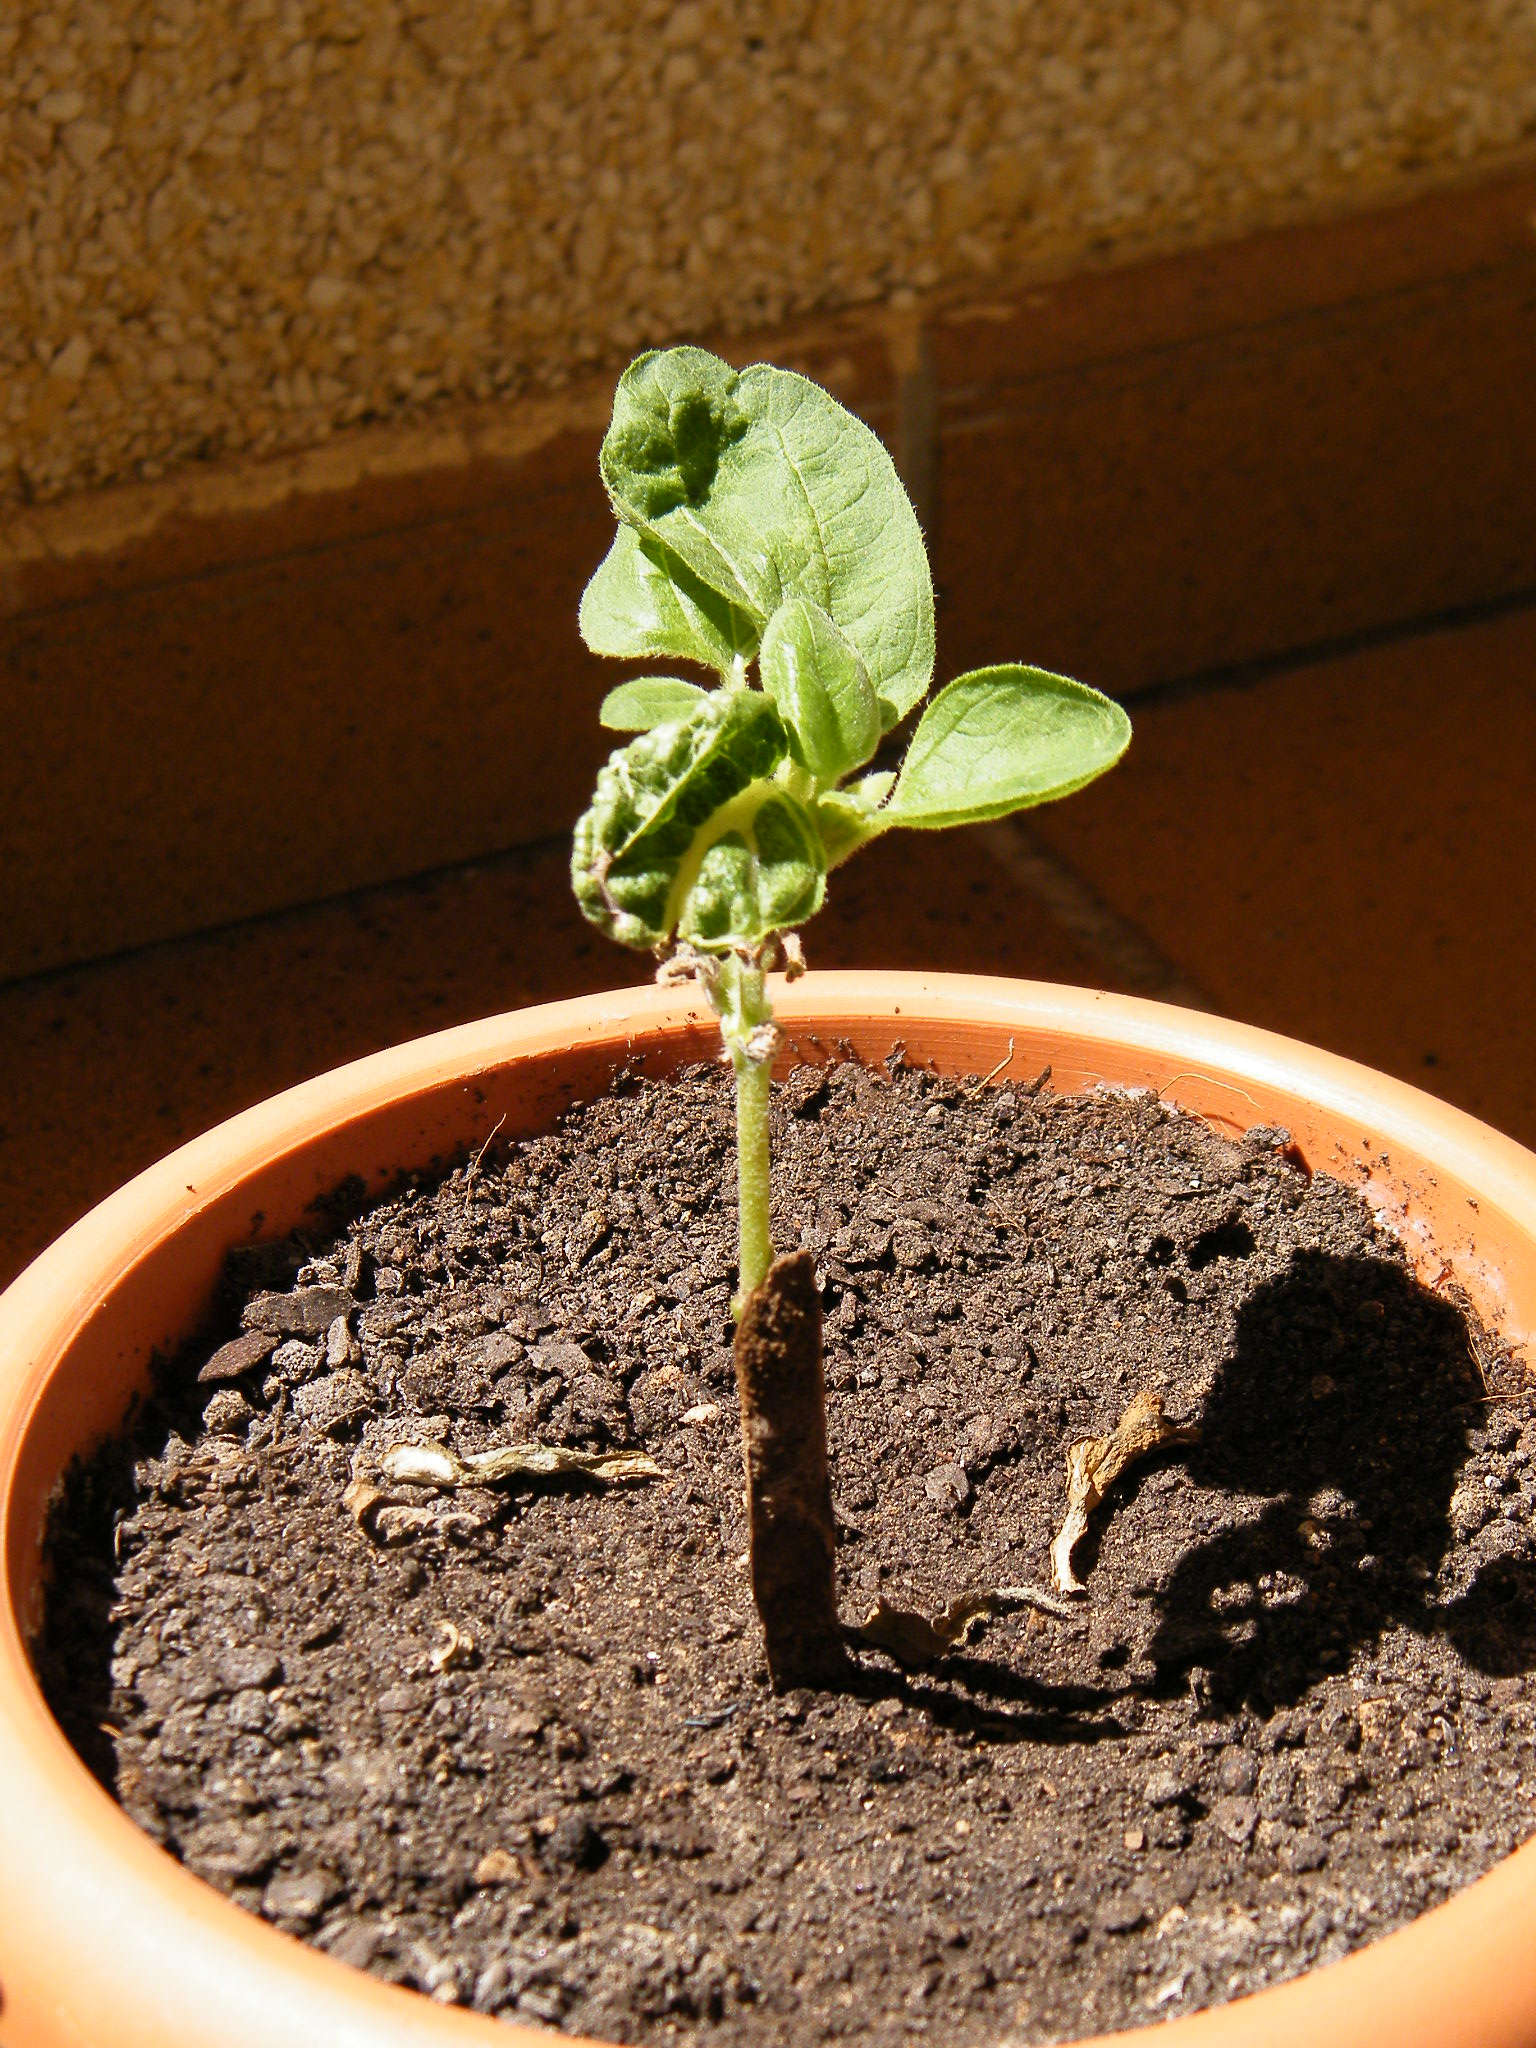girasol5-12dias: (490, 287, 1120, 1517)
